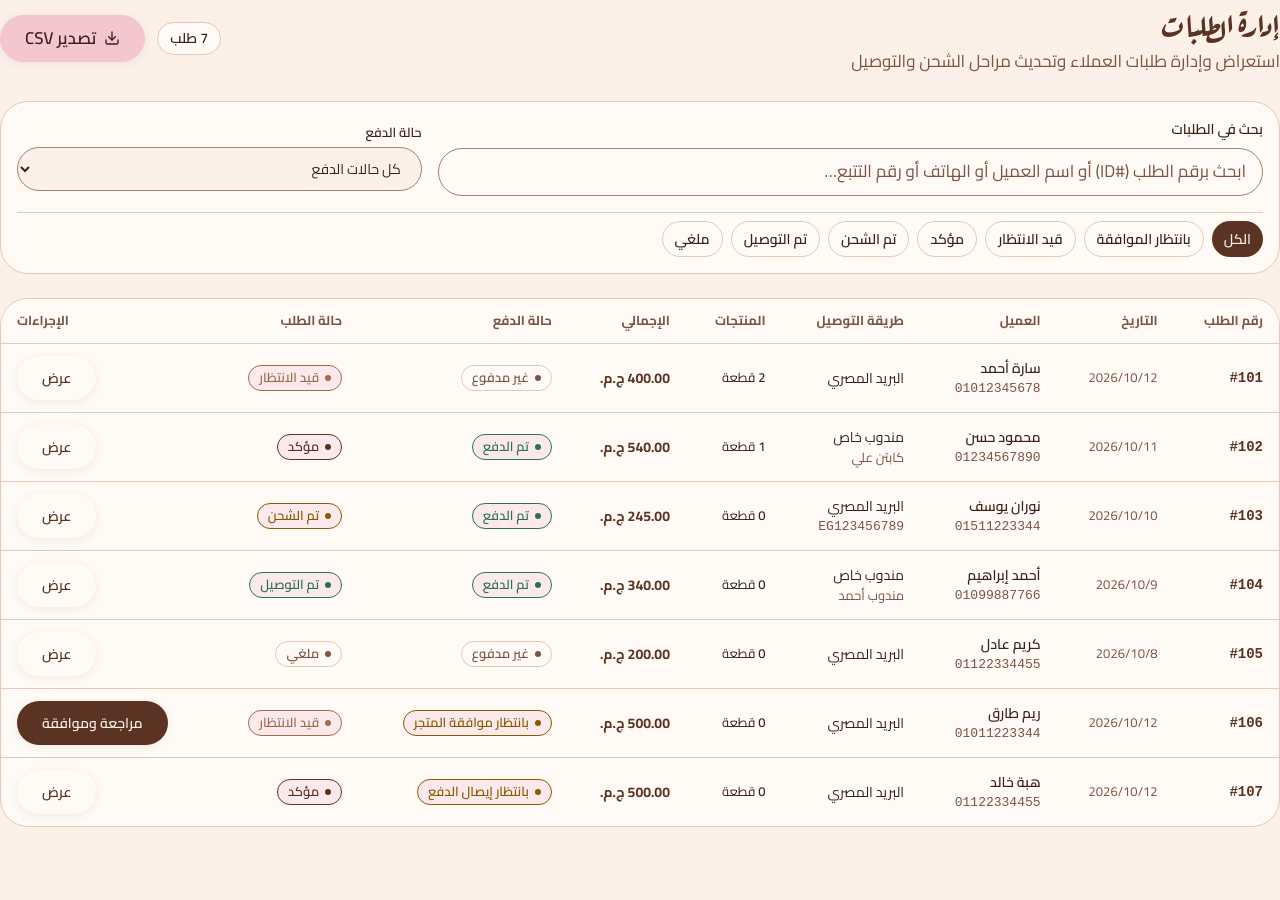
it: T-5.05 Orders Administration › OrdersPage UI Rendering & Interactions › enforces ORD-015 in UI by hiding ship button and showing warning for unpaid InstaPay orders
The image size is (1280, 900).
// Open Order #107 (confirmed, instapay_qr, awaiting_proof)
Click the text "#107" at coordinates (1234, 792), box [1229,784,1263,800]
(page scrolled)
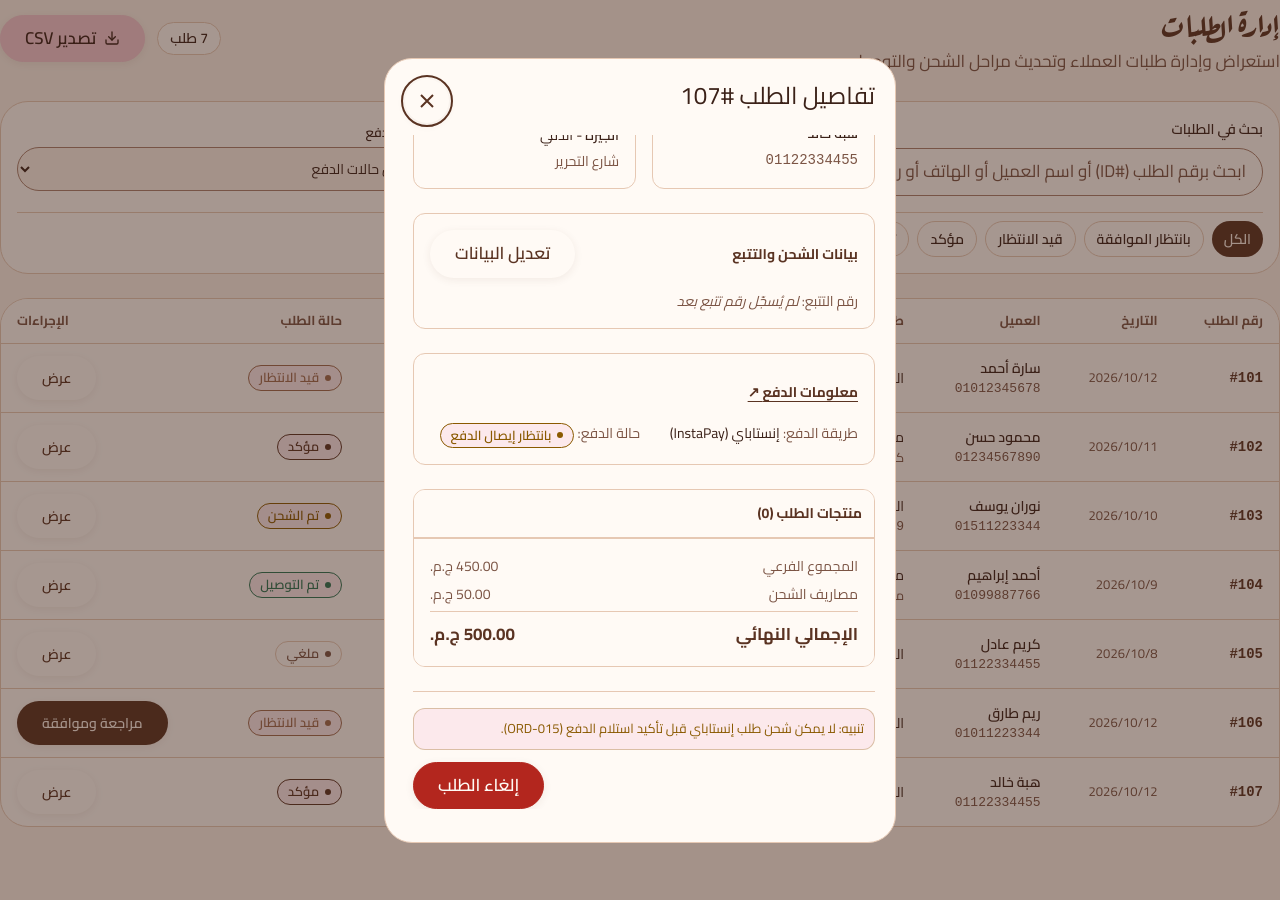
Expected: the heading "تفاصيل الطلب #107" is shown, [680,78,875,112]
Expected: the text "تنبيه: لا يمكن شحن طلب إنستاباي قبل تأكيد استلام الدفع (ORD-015)." is shown, [413,708,875,750]
Expected: the button "إلغاء الطلب" is shown, [413,762,544,809]
